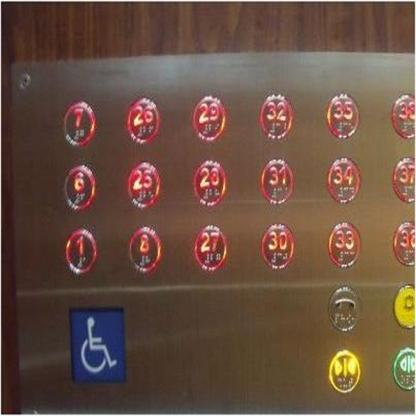1: (64, 228, 97, 274)
25: (126, 158, 160, 211)
26: (126, 94, 160, 145)
27: (192, 222, 228, 271)
28: (191, 157, 227, 207)
29: (190, 92, 226, 142)
30: (259, 219, 296, 270)
31: (258, 156, 294, 205)
32: (258, 90, 294, 142)
33: (326, 221, 362, 269)
34: (326, 155, 362, 205)
35: (324, 90, 360, 140)
6: (62, 162, 96, 212)
7: (61, 98, 96, 148)
8: (126, 224, 163, 273)
CH: (68, 304, 127, 388)
alarm: (393, 284, 415, 328)
call: (326, 282, 362, 333)
close: (327, 346, 361, 392)
open: (391, 345, 415, 389)
